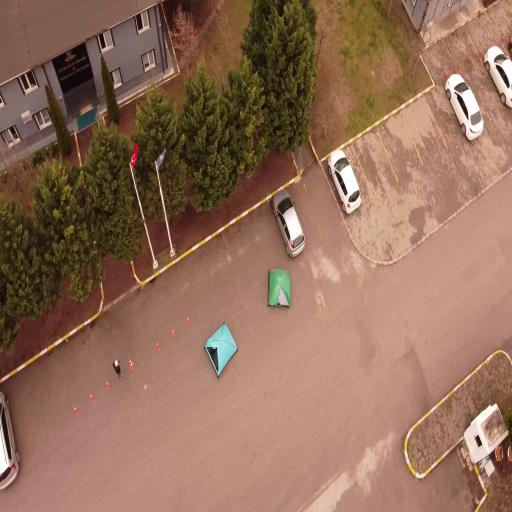tent: (203, 323, 238, 377), (264, 266, 292, 312)
